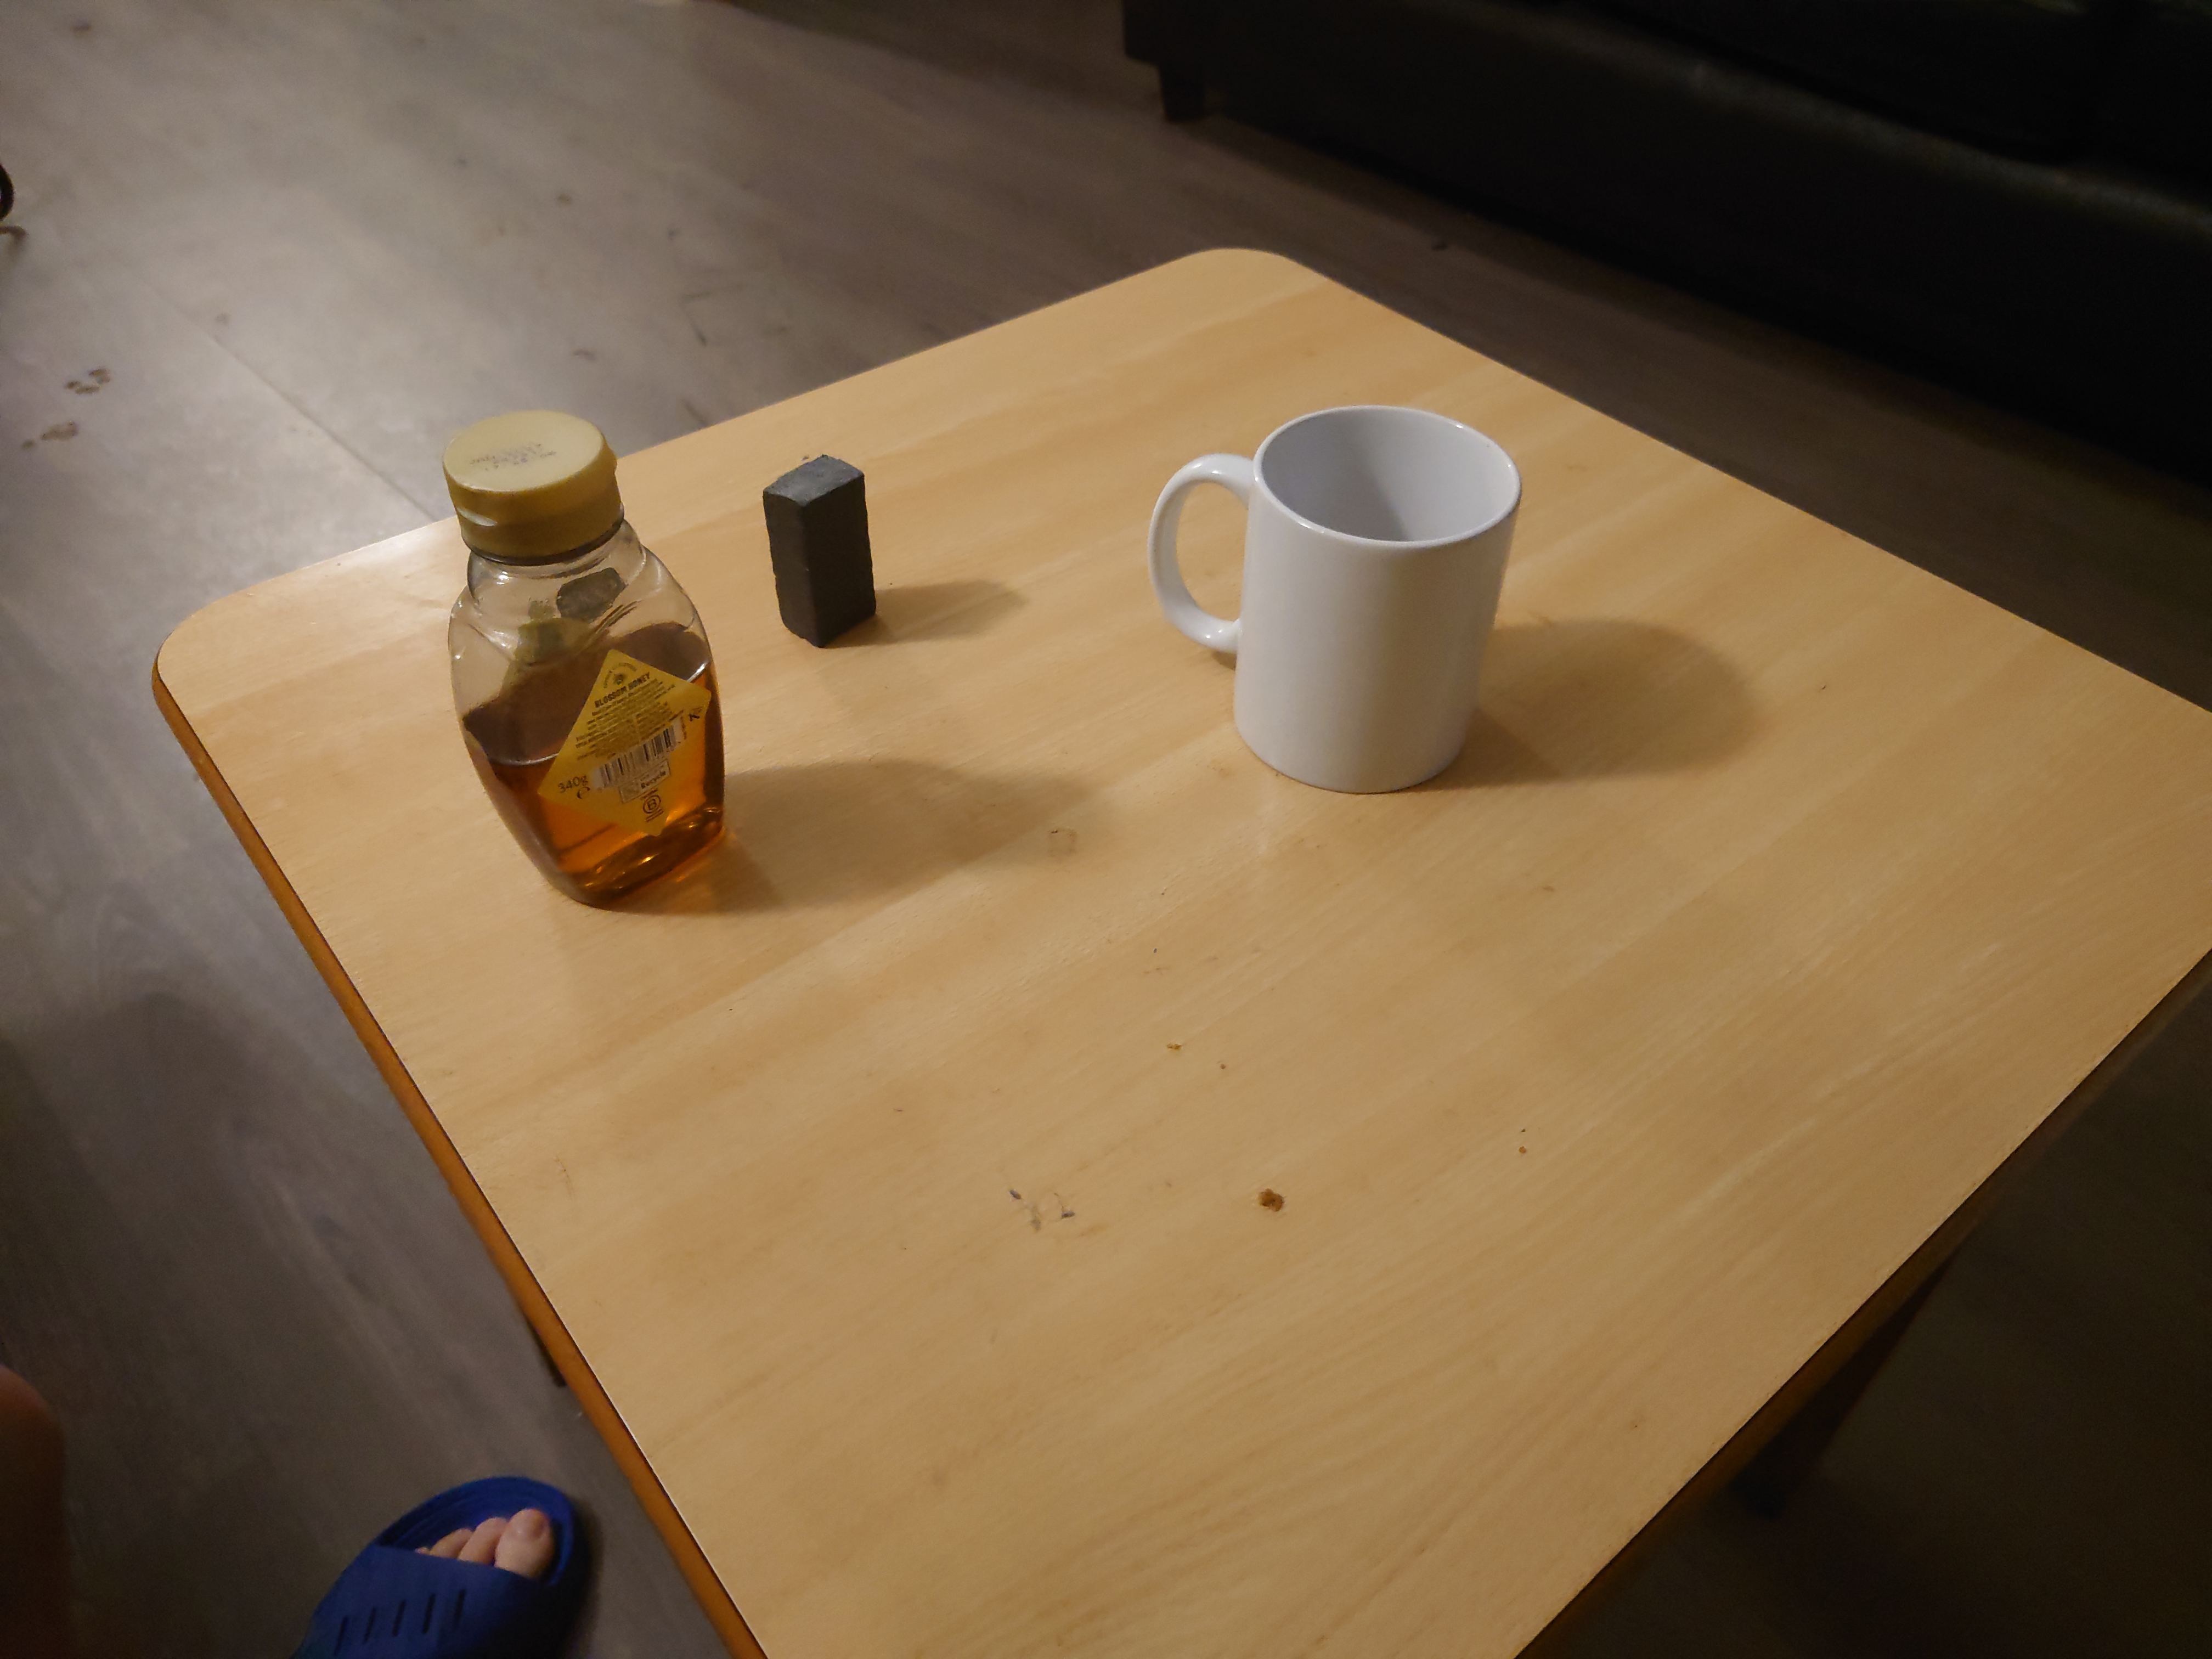cup: (1144, 392, 1522, 784)
target: (759, 446, 878, 645)
